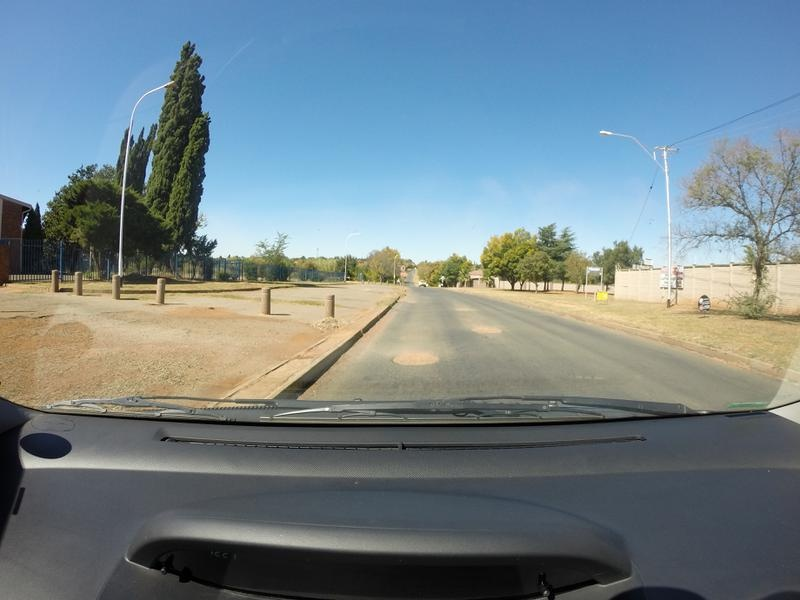pothole: (384, 343, 472, 380), (472, 319, 511, 337)
